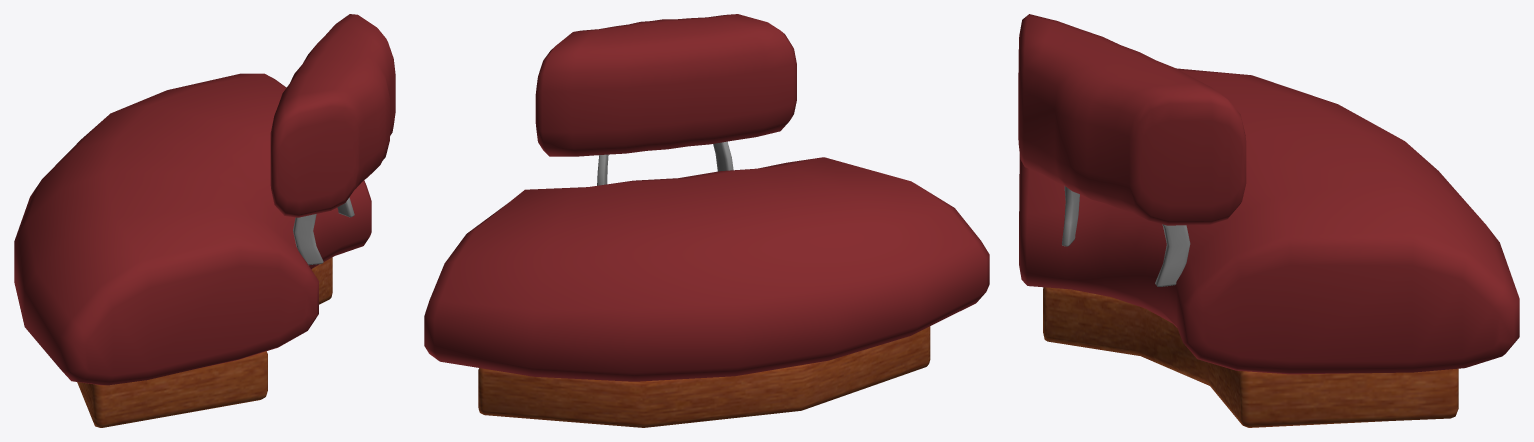
File: Sofa_Corner_Out.glb
The picture shows the model from 3 angles, left to right: view 1: azimuth 30°, elevation 25°; view 2: azimuth 150°, elevation 25°; view 3: azimuth 270°, elevation 25°; orthographic projection. The views are drawn at different scales.
Visible parts, largest first — view 1: Cube.023; view 2: Cube.023; view 3: Cube.023.
Part boxes in pixels (x1=…): Cube.023: x1=14, y1=14, x2=395, y2=427; Cube.023: x1=424, y1=14, x2=989, y2=427; Cube.023: x1=1018, y1=14, x2=1519, y2=427.
Bounding box in the file's own units: 1.51 × 1.12 × 1.49.
1 material, 1 textured.
